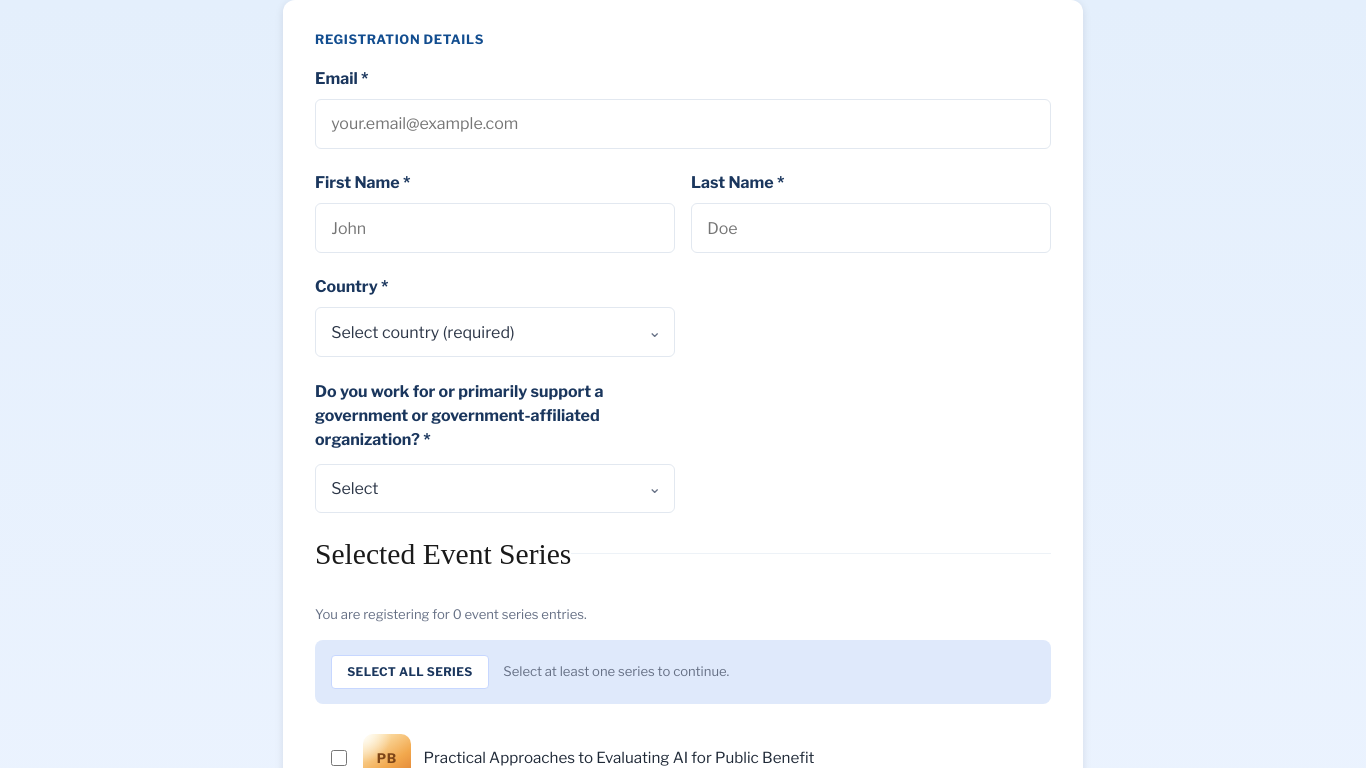
Test: RegistrationForm › associates visible labels with native form controls
Expected: the field with id "email" is shown, [315,99,1051,149]
Expected: the field with id "first_name" is shown, [315,203,675,253]
Step 1. Select "United States" in the dropdown with id "country" → (495, 332), box [315,307,675,357]
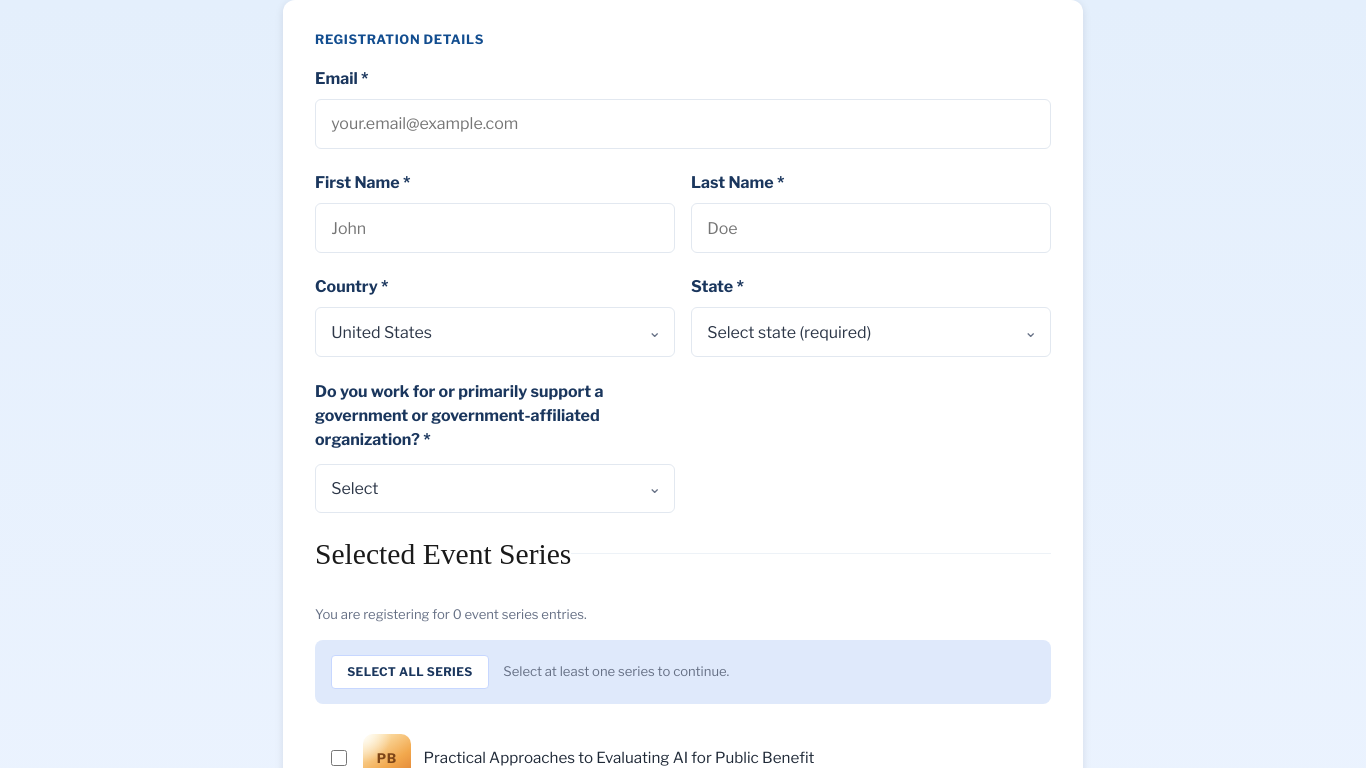
Now the label "State *" is shown, box [691,275,744,299]
Step 2. Select "Outside the United States" in the dropdown with id "country" → (495, 332), box [315,307,675,357]
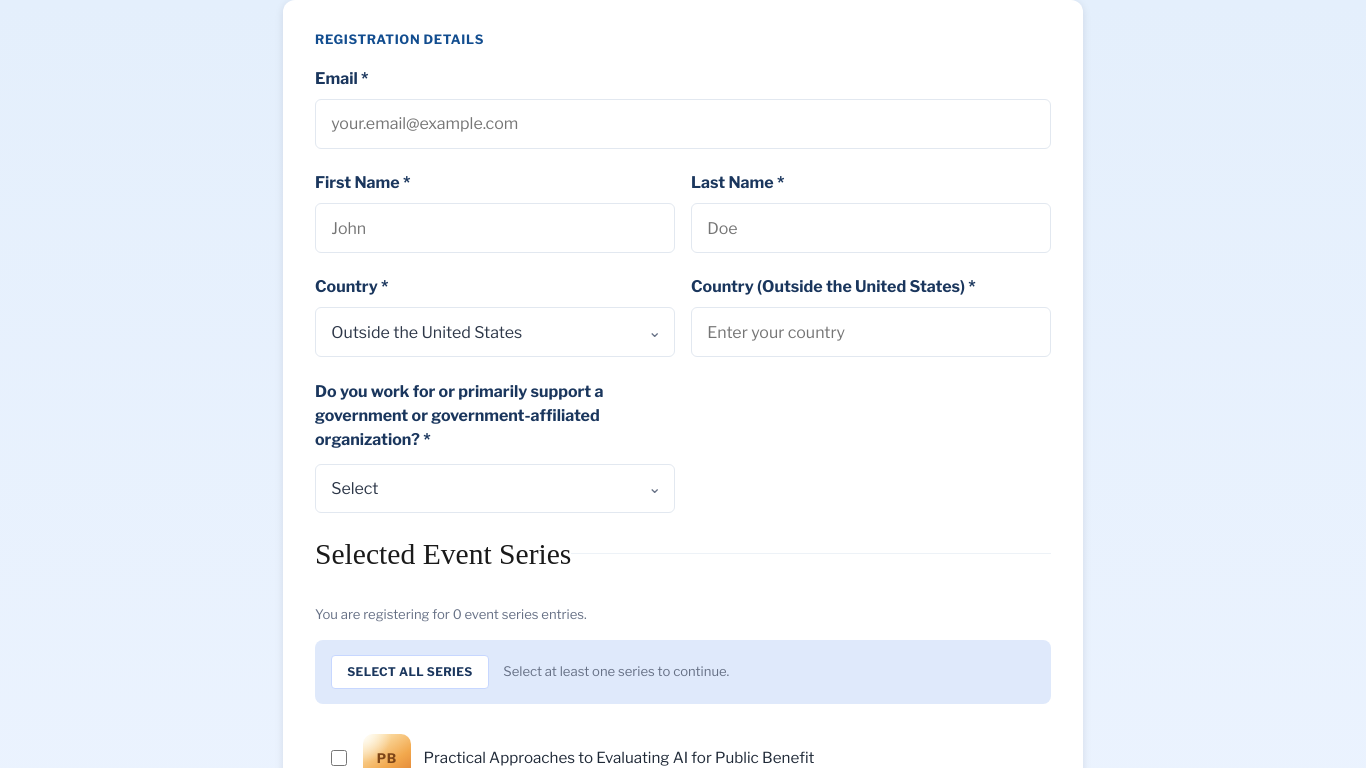
Now the label "Country (Outside the United States) *" is shown, box [691,275,976,299]
Step 3. Select "Yes, I'm an employee of a government agency" in the dropdown with id "gov_org" → (495, 488), box [315,464,675,513]
(page scrolled)
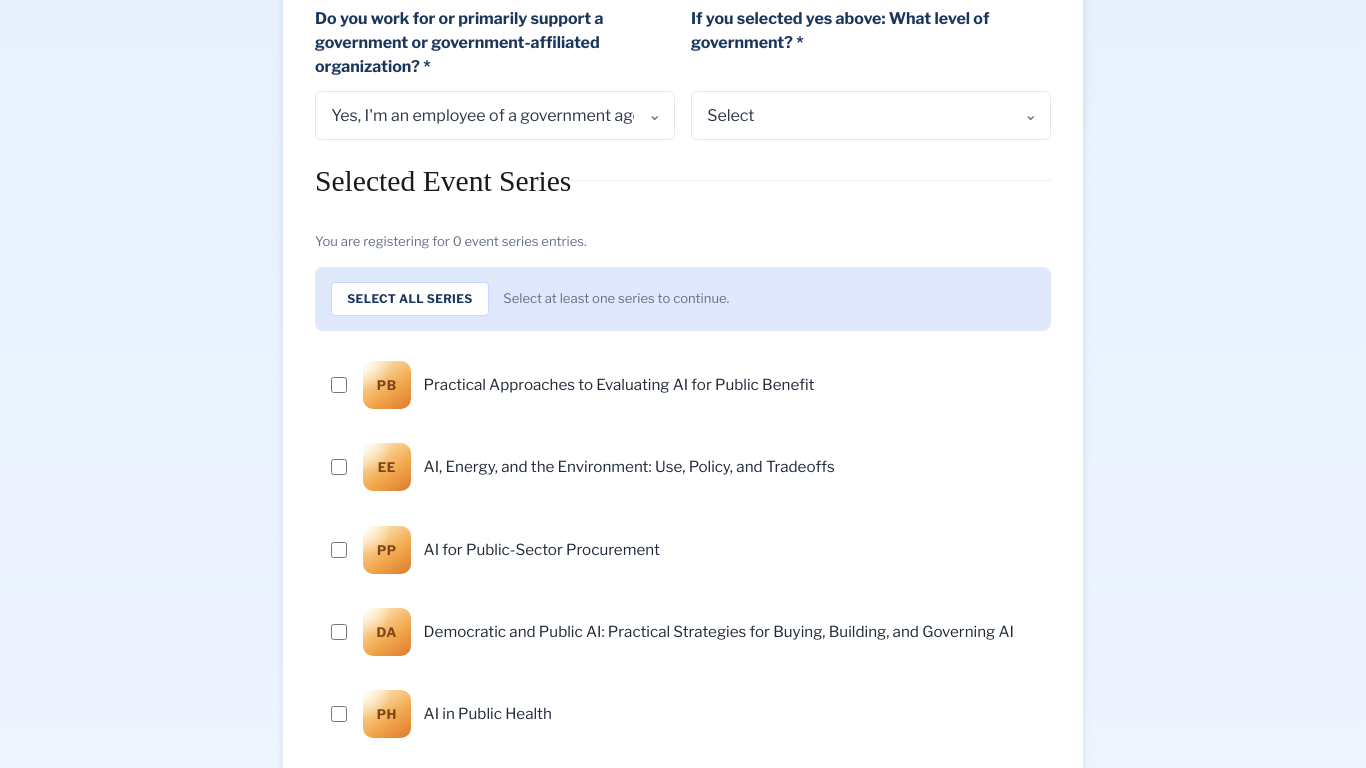
Expected: the text with id "series-title" reads "Selected Event Series", [315,165,571,197]
Now the label "If you selected yes above: What level of government? *" is shown, box [691,8,989,52]
